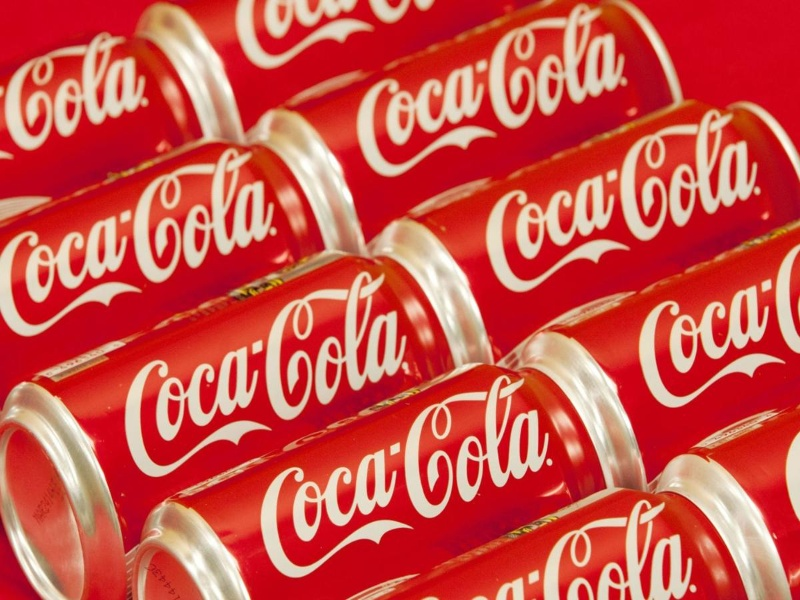Can: (13, 236, 432, 572), (361, 61, 800, 336), (121, 354, 618, 574), (249, 1, 739, 223)
